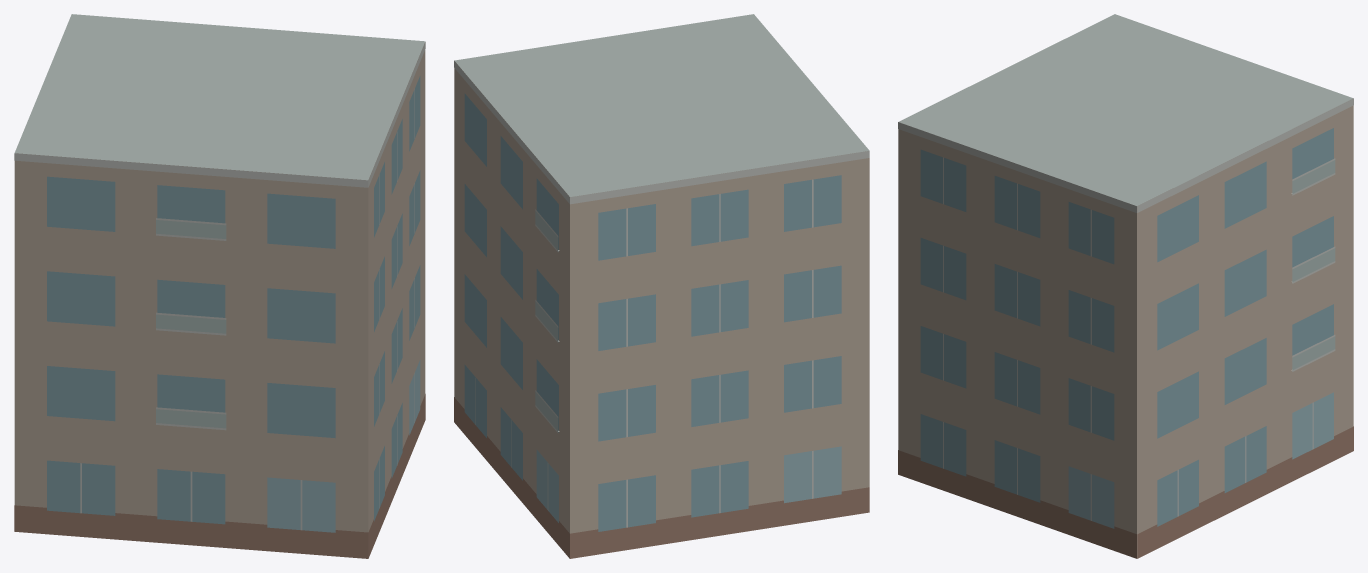
Rendered from survey-upis-32538772.glb.
The picture shows the model from 3 angles, left to right: view 1: azimuth 30°, elevation 25°; view 2: azimuth 150°, elevation 25°; view 3: azimuth 270°, elevation 25°; orthographic projection. The views are drawn at different scales.
Parts seen in each view (by area): view 1: survey-upis-32538772.tmp; view 2: survey-upis-32538772.tmp; view 3: survey-upis-32538772.tmp.
Boxes of the visible parts, x1,y1,x2,y2 form: survey-upis-32538772.tmp: (14, 14, 425, 558); survey-upis-32538772.tmp: (454, 14, 869, 558); survey-upis-32538772.tmp: (898, 14, 1353, 558).
Size of the model in its own units: 14.39 by 12.3 by 14.41.
